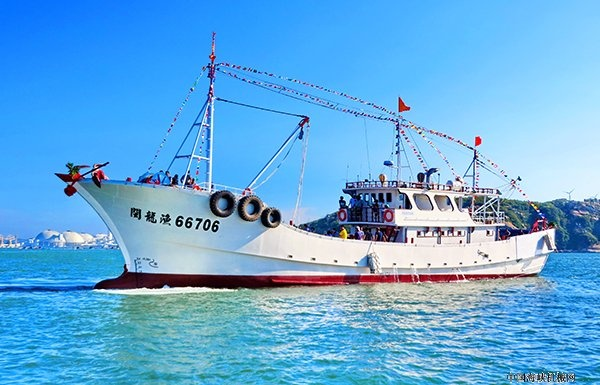otherboat: (48, 131, 559, 297)
